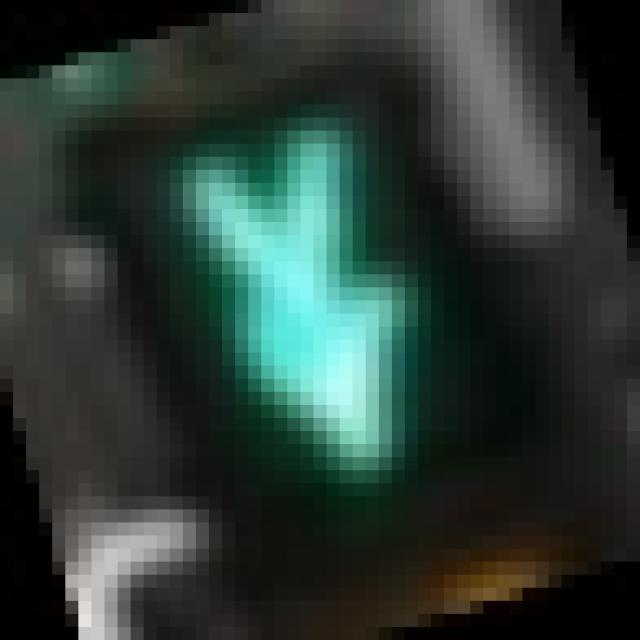green-light: (80, 40, 524, 550)
